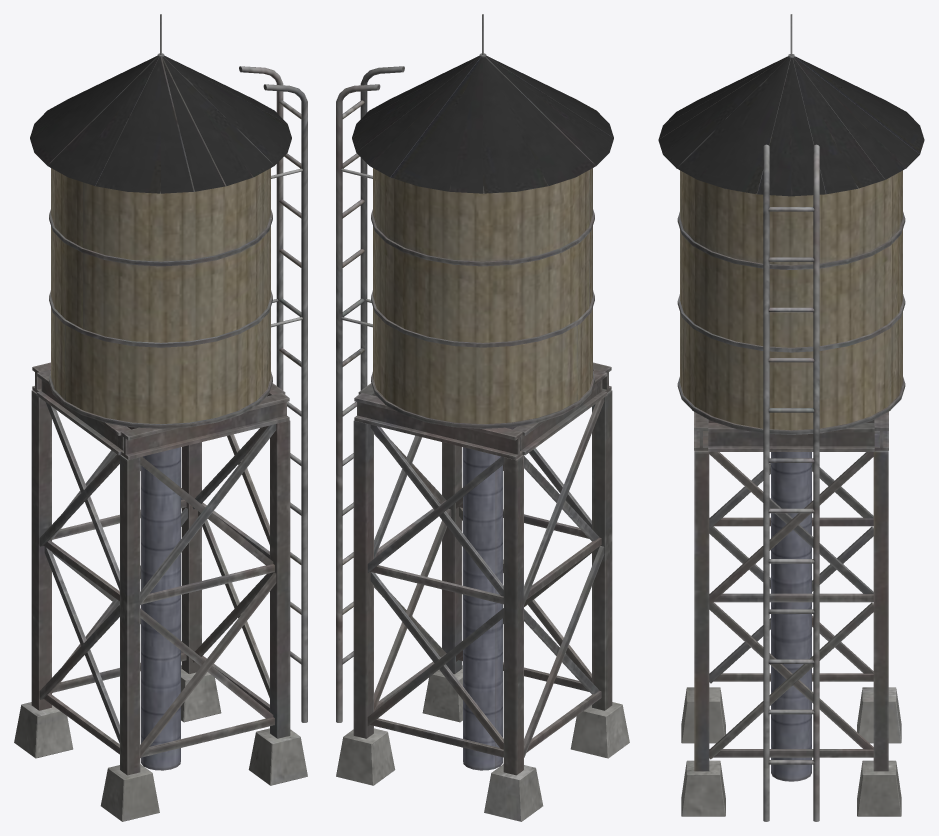
Rendered from prop_watertower.glb.
The picture shows the model from 3 angles, left to right: view 1: azimuth 30°, elevation 25°; view 2: azimuth 150°, elevation 25°; view 3: azimuth 270°, elevation 25°; orthographic projection.
Parts seen in each view (by area): view 1: prop_watertower; view 2: prop_watertower; view 3: prop_watertower.
Boxes of the visible parts, box(x1,y1,x2,y2) form: prop_watertower: box(14, 14, 307, 821); prop_watertower: box(336, 14, 629, 821); prop_watertower: box(658, 14, 924, 821).
Bounding box in the file's own units: 2.09 × 6.04 × 1.92.
Materials: 1 (1 with a texture image).
